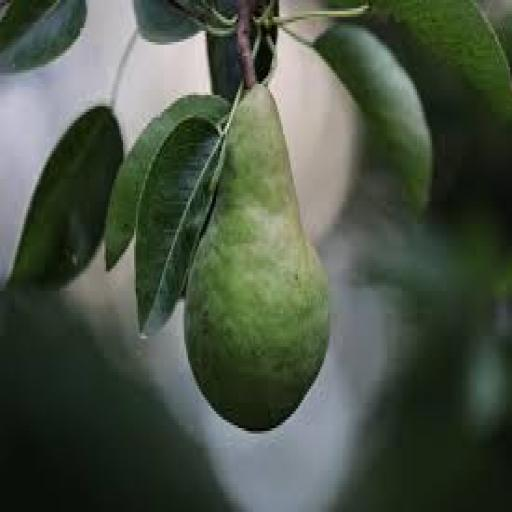pear: (165, 0, 358, 461)
